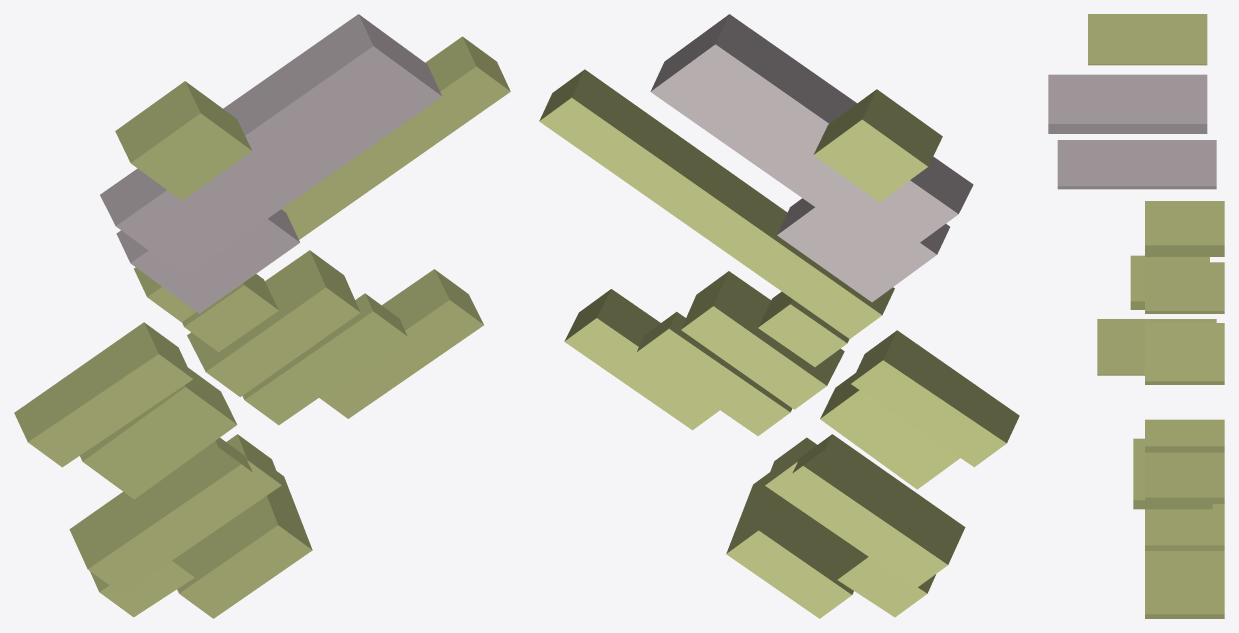
The picture shows the model from 3 angles, left to right: view 1: azimuth 30°, elevation 25°; view 2: azimuth 150°, elevation 25°; view 3: azimuth 270°, elevation 25°; orthographic projection. The views are drawn at different scales.
Parts seen in each view (by area): view 1: 0_1_0_0_0_1_2_2_1; view 2: 0_1_0_0_0_1_2_2_1; view 3: 0_1_0_0_0_1_2_2_1.
Boxes of the visible parts, box(x1,y1,x2,y2) form: 0_1_0_0_0_1_2_2_1: box(14, 14, 510, 618); 0_1_0_0_0_1_2_2_1: box(539, 14, 1019, 618); 0_1_0_0_0_1_2_2_1: box(1048, 14, 1224, 618).
Size of the model in its own units: 47.06 by 52.13 by 13.3.
